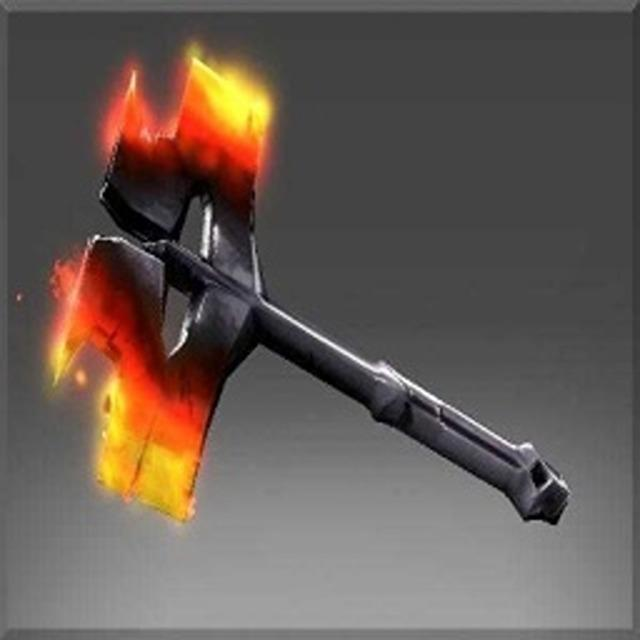ax: (20, 24, 592, 571)
